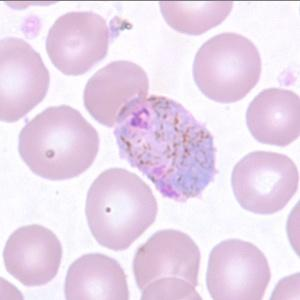Infected: (115, 95, 218, 202)
Uninfected: (18, 104, 98, 182), (85, 167, 156, 250), (192, 33, 261, 103), (84, 58, 148, 126), (0, 37, 50, 123), (206, 237, 272, 300), (232, 151, 299, 213), (133, 227, 201, 288), (47, 10, 107, 74), (3, 222, 61, 288), (245, 86, 300, 148), (65, 252, 130, 300)
